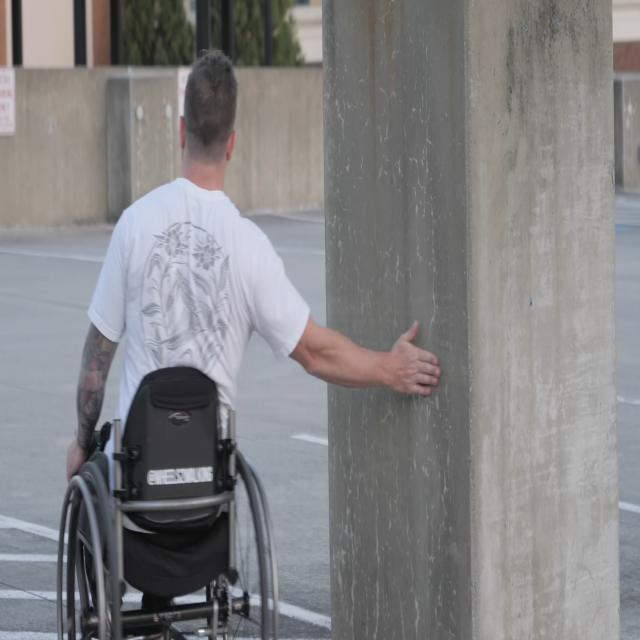wheelchairs: (52, 360, 281, 640)
